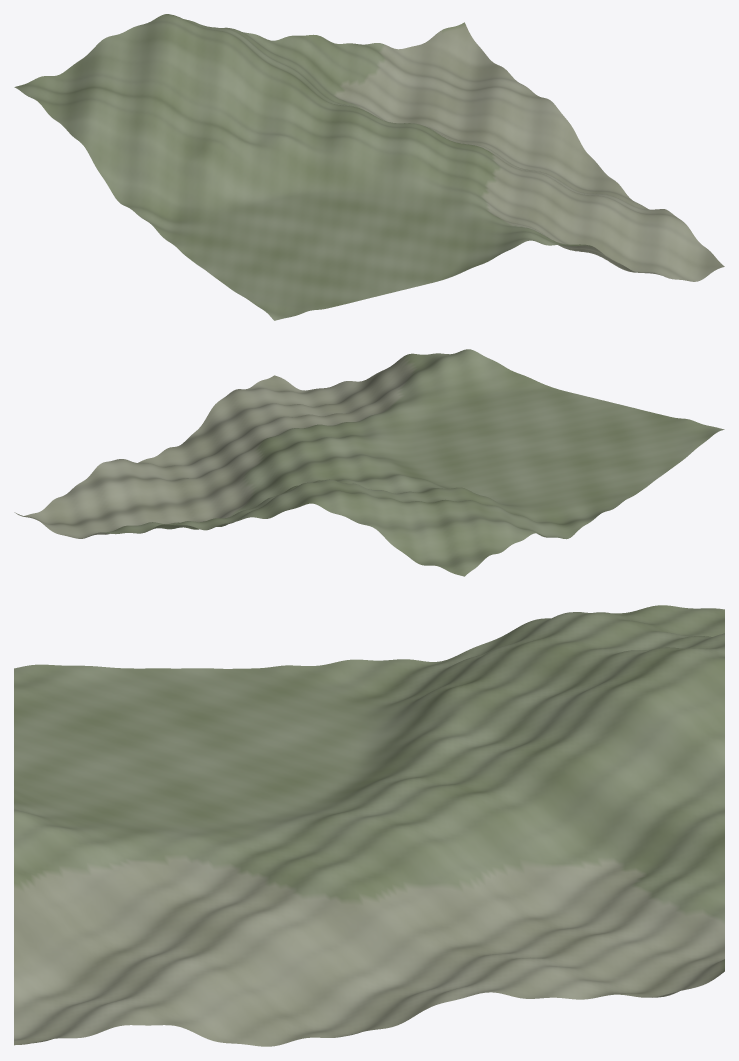
File: terrain_3_2.glb
The picture shows the model from 3 angles, top to bottom: view 1: azimuth 30°, elevation 25°; view 2: azimuth 150°, elevation 25°; view 3: azimuth 270°, elevation 25°; orthographic projection. The views are drawn at different scales.
Visible parts, largest first — view 1: terrain_3_2; view 2: terrain_3_2; view 3: terrain_3_2.
Part boxes in pixels (x1=…): terrain_3_2: x1=14, y1=14, x2=724, y2=320; terrain_3_2: x1=14, y1=349, x2=724, y2=576; terrain_3_2: x1=14, y1=605, x2=724, y2=1046.
Size of the model in its own units: 512 by 158 by 512.
